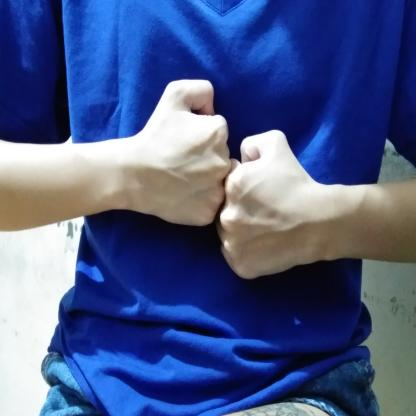brother: (114, 63, 327, 300)
